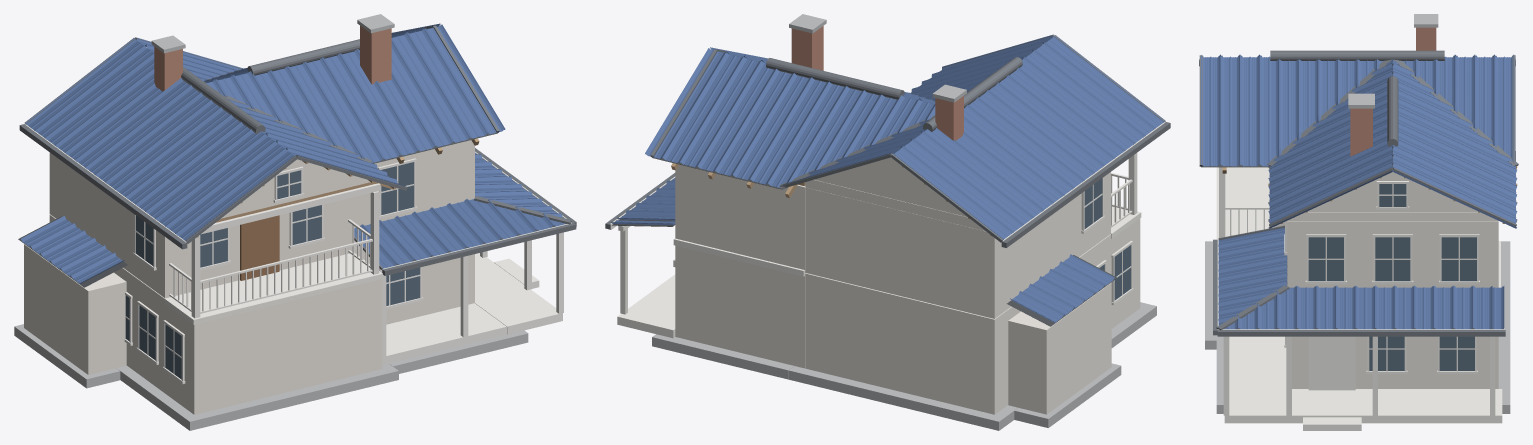
File: Mega_S_Rib_LShape_Balcony_House.glb
3 views of the same model, side by side, from view 1: azimuth 30°, elevation 25°; view 2: azimuth 150°, elevation 25°; view 3: azimuth 270°, elevation 25° (orthographic). The views are drawn at different scales.
Visible parts, largest first — view 1: WingA_Walls_GF, WingA_Walls_2F, SideBay_Walls, WingB_Walls, Balcony_Floor, Foundation_WingA, Porch_Deck_FrontB, Porch_Deck_RightB, Gable_Wall_WingA_Front, RoofSheet_45, RoofSheet_44, Balcony_Door (+67 smaller); view 2: WingA_Walls_2F, WingA_Walls_GF, WingB_Walls, SideBay_Walls, Foundation_WingA, Gable_Wall_WingA_Back, RoofSheet_48, RoofSheet_49, Porch_Deck_RightB, RoofSheet_50, RoofSheet_52, RoofSheet_51 (+47 smaller); view 3: WingB_Walls, Porch_Deck_RightB, Porch_Deck_FrontB, Balcony_Floor, Gable_Wall_WingB_Right, Door_Frame, RoofSheet_18, RoofSheet_19, RoofSheet_17, RoofSheet_20, Gutter_PorchRight, RoofSheet_32 (+85 smaller).
Boxes of the visible parts, x1,y1,x2,y2 form: WingA_Walls_GF: (49,214,382,414); WingA_Walls_2F: (49,152,353,298); SideBay_Walls: (24,244,126,374); WingB_Walls: (353,140,474,324); Balcony_Floor: (164,253,382,324); Foundation_WingA: (116,363,398,430); Porch_Deck_FrontB: (382,303,506,364); Porch_Deck_RightB: (475,253,562,334); Gable_Wall_WingA_Front: (221,159,370,218); RoofSheet_45: (407,28,487,138); RoofSheet_44: (391,33,470,142); Balcony_Door: (240,215,279,280); WingA_Walls_2F: (805,172,1110,318); WingA_Walls_GF: (805,218,1140,414); WingB_Walls: (675,164,805,368); SideBay_Walls: (1008,282,1111,414); Foundation_WingA: (788,302,1156,430); Gable_Wall_WingA_Back: (814,157,967,216); RoofSheet_48: (662,52,742,163); RoofSheet_49: (680,56,760,167); Porch_Deck_RightB: (617,274,675,338); RoofSheet_50: (697,61,775,171); RoofSheet_52: (732,73,811,180); RoofSheet_51: (715,69,793,175); WingB_Walls: (1287,221,1498,388); Porch_Deck_RightB: (1224,389,1502,423); Porch_Deck_FrontB: (1229,336,1286,388); Balcony_Floor: (1216,167,1272,239); Gable_Wall_WingB_Right: (1307,172,1477,212); Door_Frame: (1308,336,1355,390); RoofSheet_18: (1220,56,1240,166); RoofSheet_19: (1240,55,1259,166); RoofSheet_17: (1201,55,1220,166); RoofSheet_20: (1259,55,1279,166); Gutter_PorchRight: (1217,330,1505,336); RoofSheet_32: (1494,56,1514,162).
Bounding box in the file's own units: 12.46 × 7.83 × 8.17.
